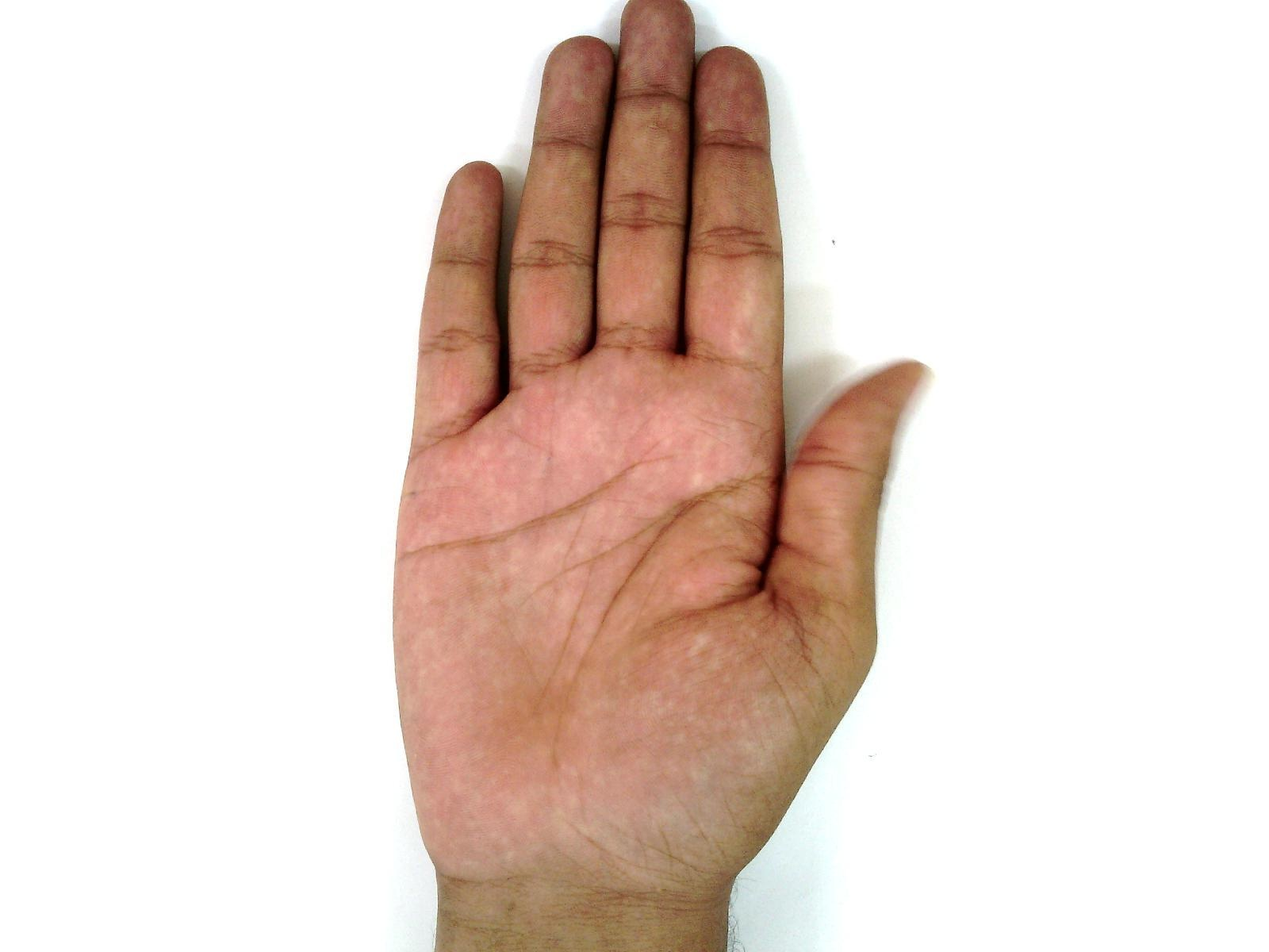open_palm: (388, 3, 936, 910)
